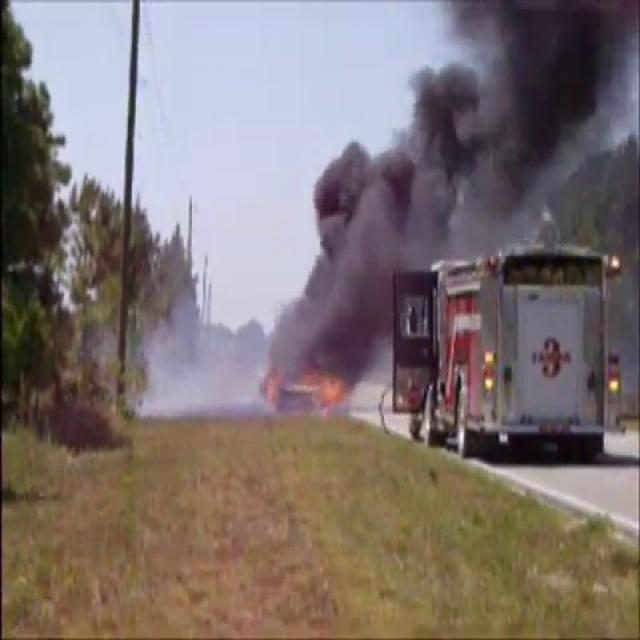Smoke: (269, 0, 639, 388), (126, 293, 266, 420)
